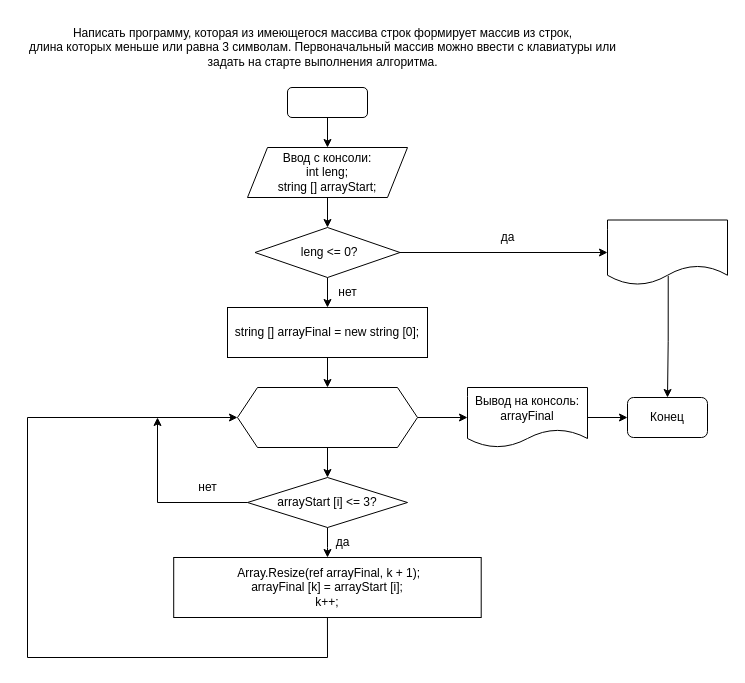
Image size: 745x683. Some labels were removed from this diagram. The centre of each missing label's shape, as x and y in pixels:
int i = 0, int k =0; i <= arrayStart.Length; i++: (327,417)
Вывод на консоль: "Неверно ввели длину массива": (667,252)
Начало: (327,102)
